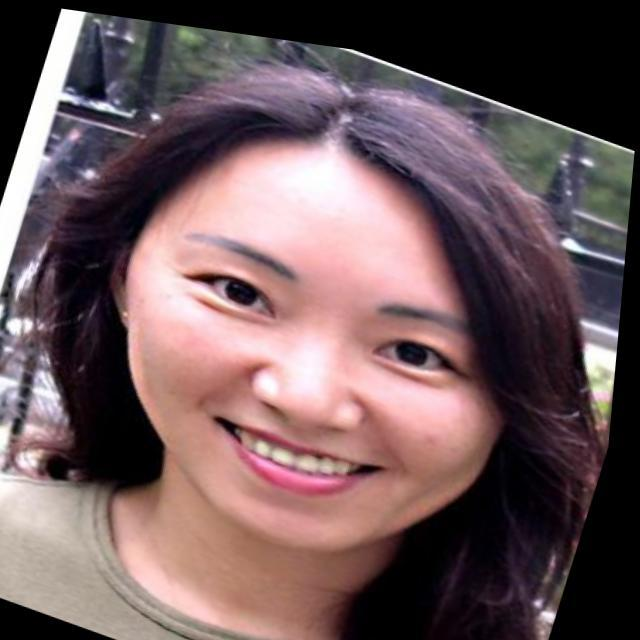Nonhelmet: (95, 67, 528, 569)
